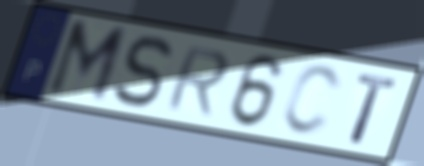6: (224, 52, 286, 130)
C: (279, 62, 344, 139)
M: (42, 17, 132, 107)
R: (162, 44, 233, 119)
S: (110, 34, 175, 111)
T: (348, 71, 402, 147)
